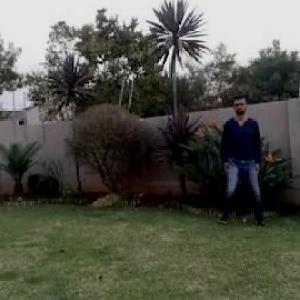follow: (222, 90, 261, 222)
